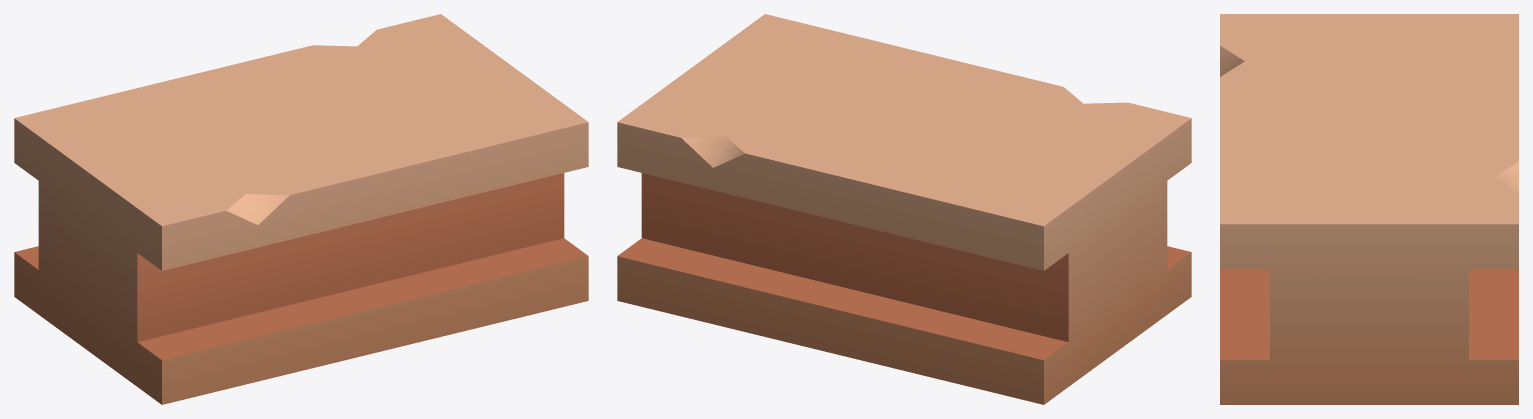
File: kenney-mini-arena-border-straight.glb
The picture shows the model from 3 angles, left to right: view 1: azimuth 30°, elevation 25°; view 2: azimuth 150°, elevation 25°; view 3: azimuth 270°, elevation 25°; orthographic projection.
Visible parts, largest first — view 1: border-straight; view 2: border-straight; view 3: border-straight.
Boxes of the visible parts, x1,y1,x2,y2 form: border-straight: (14, 14, 588, 404); border-straight: (617, 14, 1191, 404); border-straight: (1220, 14, 1518, 404).
Bounding box in the file's own units: 1 × 0.3999 × 0.6001.
1 material, 1 textured.
